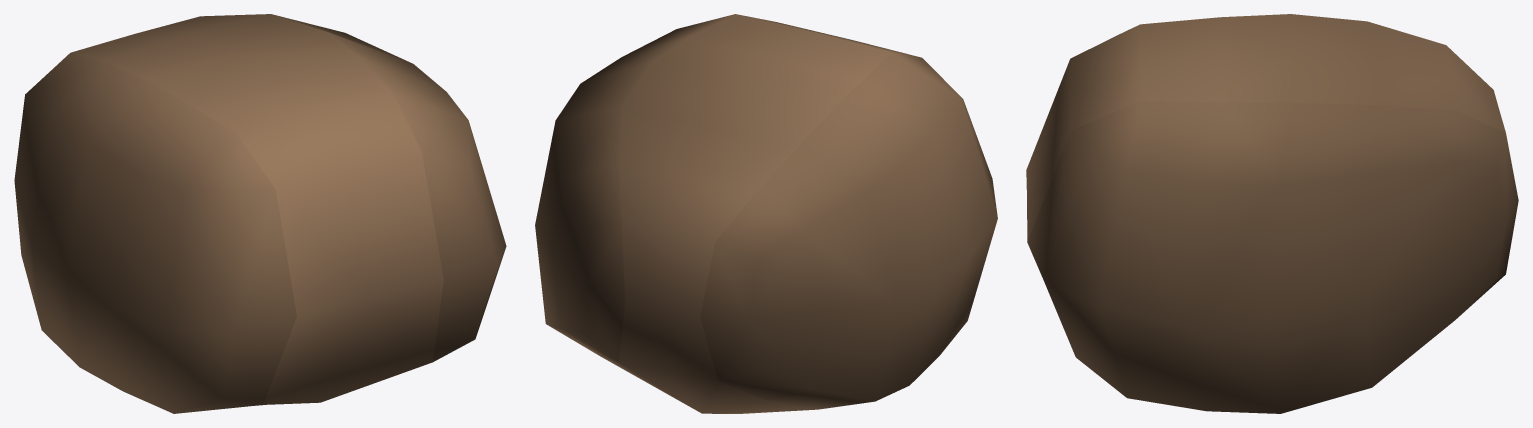
The model's file is SandstonePebble.007.glb.
3 views of the same model, side by side, from view 1: azimuth 30°, elevation 25°; view 2: azimuth 150°, elevation 25°; view 3: azimuth 270°, elevation 25° (orthographic).
Parts seen in each view (by area): view 1: SandstonePebble.007; view 2: SandstonePebble.007; view 3: SandstonePebble.007.
Boxes of the visible parts, bbox=[...] form: SandstonePebble.007: bbox=[14, 14, 506, 413]; SandstonePebble.007: bbox=[535, 14, 997, 413]; SandstonePebble.007: bbox=[1026, 14, 1518, 413].
Bounding box in the file's own units: 10.09 × 7.77 × 11.22.
